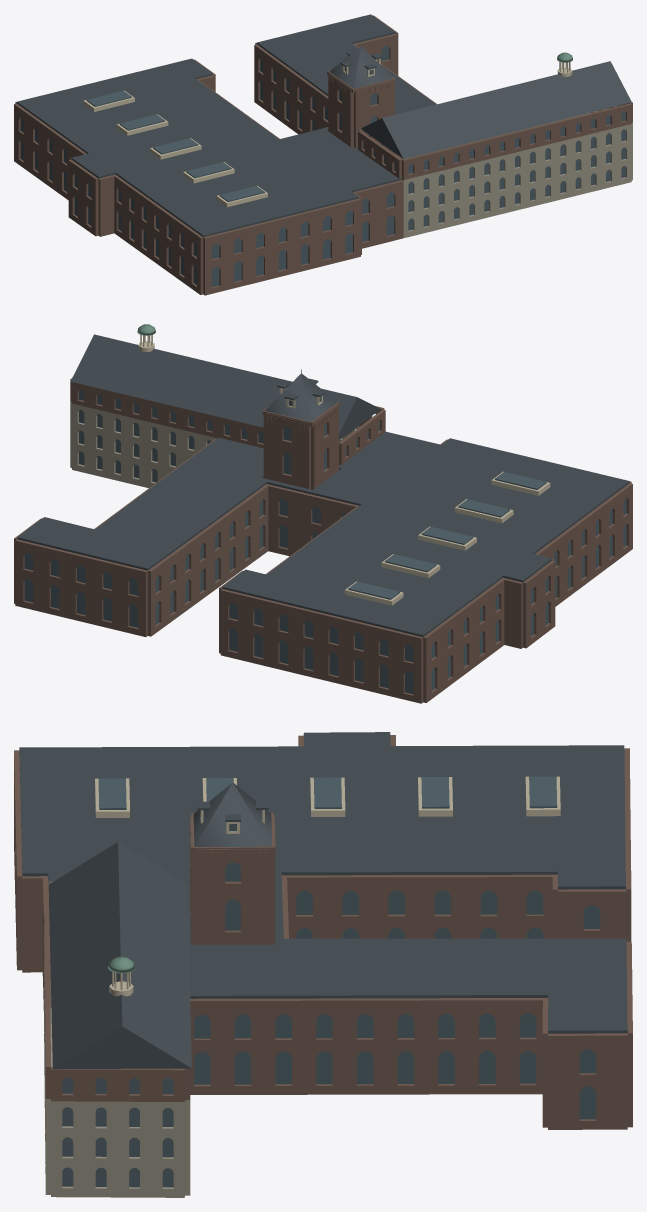
The model's file is savage-mill-near.glb.
The picture shows the model from 3 angles, top to bottom: view 1: azimuth 30°, elevation 25°; view 2: azimuth 150°, elevation 25°; view 3: azimuth 270°, elevation 25°; orthographic projection. The views are drawn at different scales.
Parts seen in each view (by area): view 1: savage-mill-0-roof, savage-mill-0-brick, savage-mill-0-stone, savage-mill-0-glass, savage-mill-0-trim; view 2: savage-mill-0-roof, savage-mill-0-brick, savage-mill-0-glass, savage-mill-0-stone, savage-mill-0-trim; view 3: savage-mill-0-roof, savage-mill-0-brick, savage-mill-0-glass, savage-mill-0-stone, savage-mill-0-trim.
Boxes of the visible parts, x1,y1,x2,y2 form: savage-mill-0-roof: (16, 14, 631, 237); savage-mill-0-brick: (14, 15, 632, 295); savage-mill-0-stone: (402, 108, 632, 237); savage-mill-0-glass: (20, 45, 625, 287); savage-mill-0-trim: (83, 55, 572, 207); savage-mill-0-roof: (17, 334, 629, 636); savage-mill-0-brick: (14, 378, 632, 703); savage-mill-0-glass: (24, 389, 626, 694); savage-mill-0-stone: (70, 401, 359, 488); savage-mill-0-trim: (138, 335, 550, 605); savage-mill-0-roof: (19, 732, 627, 1068); savage-mill-0-brick: (14, 733, 632, 1129); savage-mill-0-glass: (62, 776, 600, 1187); savage-mill-0-stone: (44, 939, 190, 1197); savage-mill-0-trim: (95, 776, 560, 996).
Size of the model in its own units: 89.76 by 27.8 by 63.25.
